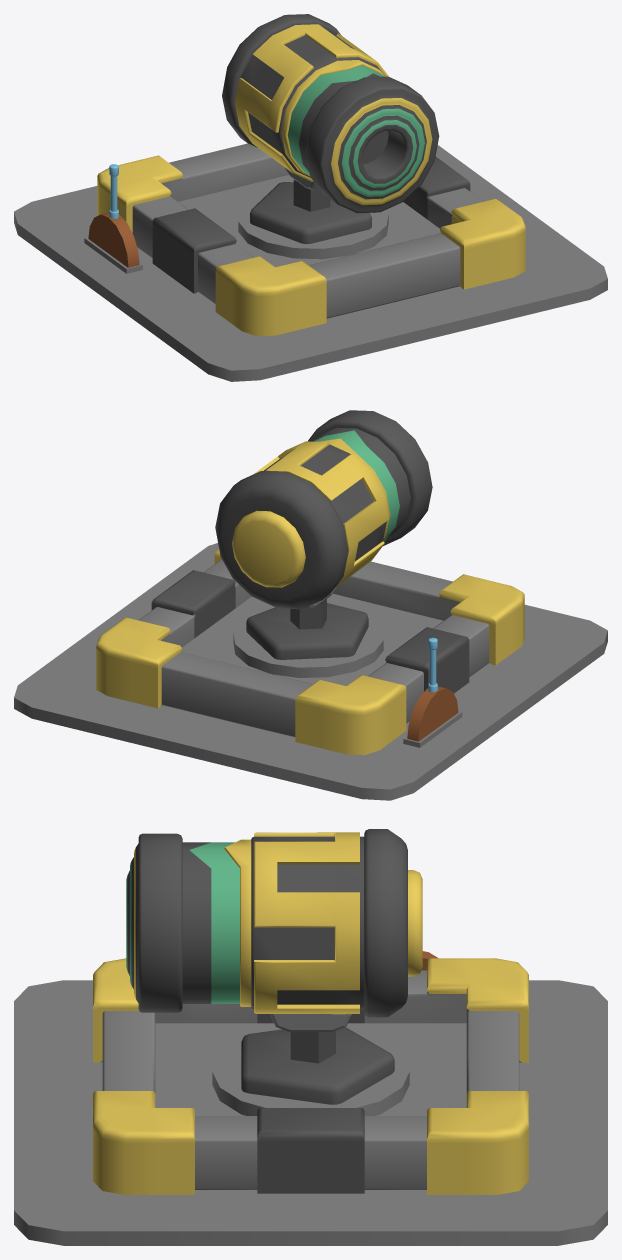
The model's file is plane destroyer.fbx.
The picture shows the model from 3 angles, top to bottom: view 1: azimuth 30°, elevation 25°; view 2: azimuth 150°, elevation 25°; view 3: azimuth 270°, elevation 25°; orthographic projection. The views are drawn at different scales.
Visible parts, largest first — view 1: Cube.188, Cylinder.066, Cylinder.060, Cylinder.067; view 2: Cube.188, Cylinder.066, Cylinder.060, Cylinder.067; view 3: Cube.188, Cylinder.066, Cylinder.060, Cube.189.
Part boxes in pixels (<box>): Cube.188: <box>14,143,607,381</box>; Cylinder.066: <box>222,14,439,213</box>; Cylinder.060: <box>250,179,371,244</box>; Cylinder.067: <box>88,164,139,267</box>; Cube.188: <box>14,543,607,800</box>; Cylinder.066: <box>215,410,432,609</box>; Cylinder.060: <box>246,599,368,659</box>; Cylinder.067: <box>407,637,458,741</box>; Cube.188: <box>14,958,607,1245</box>; Cylinder.066: <box>126,829,422,1017</box>; Cylinder.060: <box>241,1027,394,1104</box>; Cube.189: <box>270,1014,351,1031</box>.
Bounding box in the file's own units: 649 × 376 × 649.
